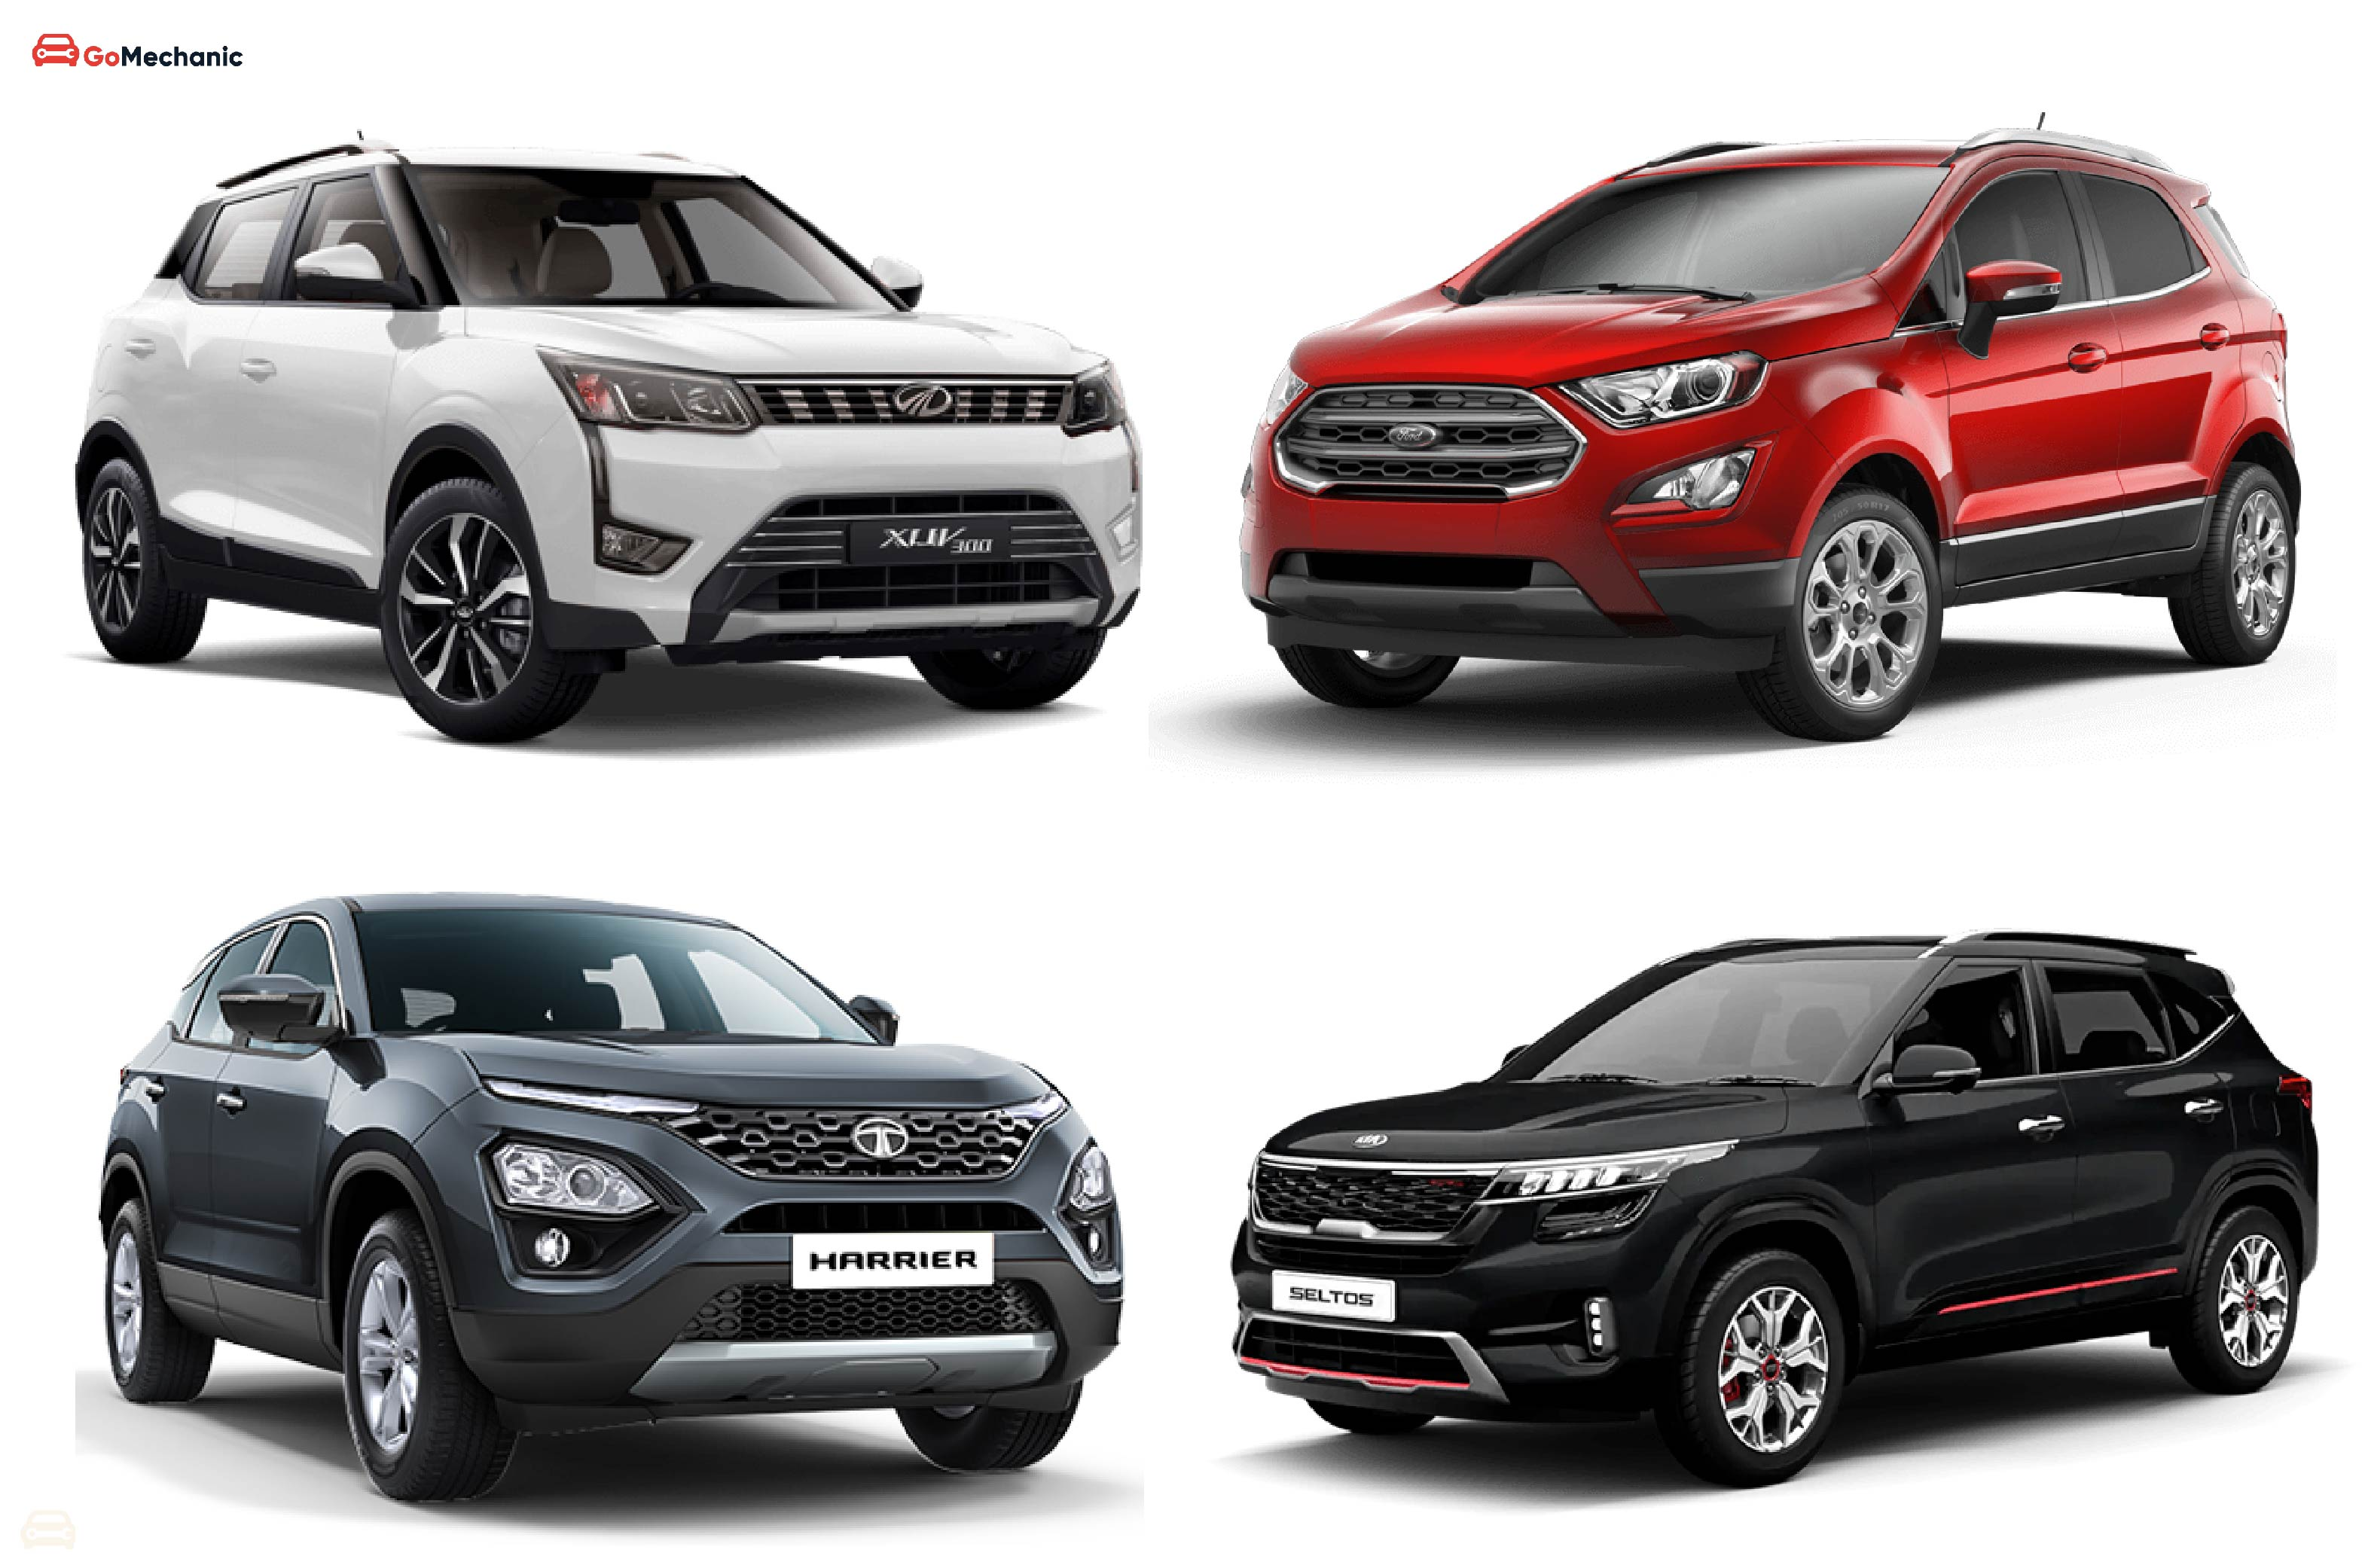car: (75, 138, 1144, 751), (1237, 128, 2300, 742), (96, 891, 1128, 1507), (1231, 931, 2320, 1489)
